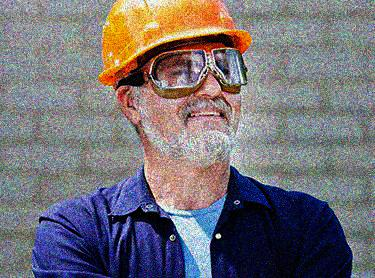helmet: (95, 1, 253, 164)
